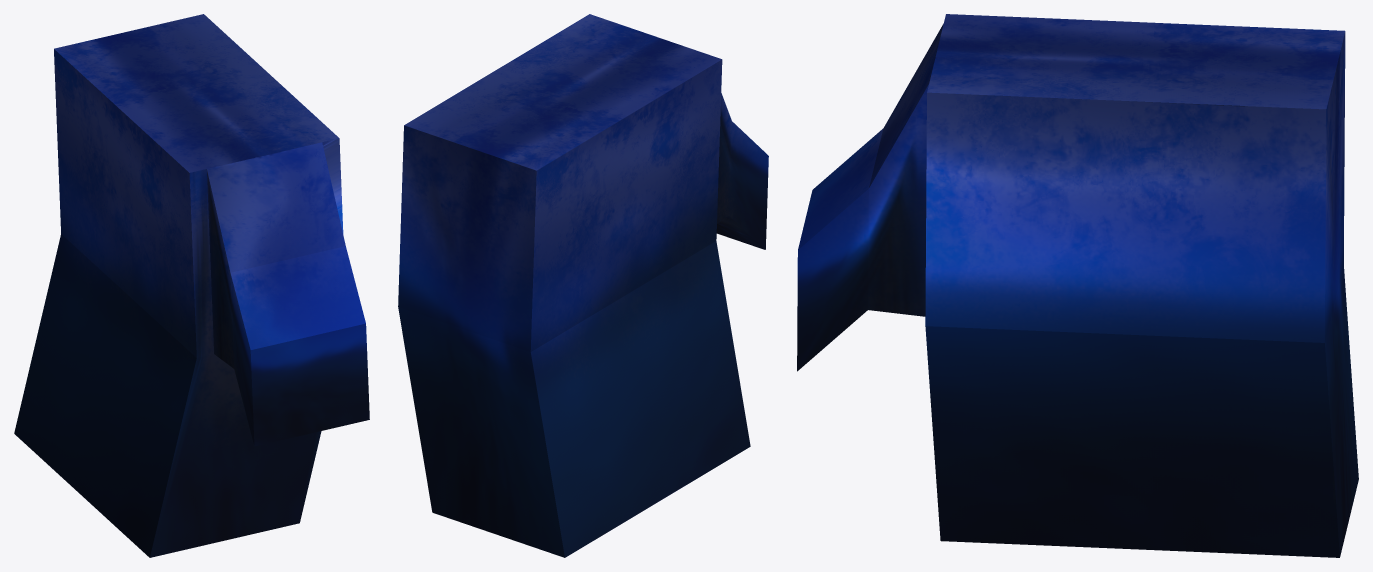
The model's file is R_HAND.obj.
3 views of the same model, side by side, from view 1: azimuth 30°, elevation 25°; view 2: azimuth 150°, elevation 25°; view 3: azimuth 270°, elevation 25° (orthographic). The views are drawn at different scales.
Visible parts, largest first — view 1: pasted__pCube50 group; view 2: pasted__pCube50 group; view 3: pasted__pCube50 group.
Part boxes in pixels (x1=…): pasted__pCube50 group: x1=14, y1=14, x2=369, y2=557; pasted__pCube50 group: x1=398, y1=14, x2=768, y2=557; pasted__pCube50 group: x1=797, y1=14, x2=1358, y2=557.
Size of the model in its own units: 0.538 by 0.9498 by 1.01.
Materials: 1 (1 with a texture image).
